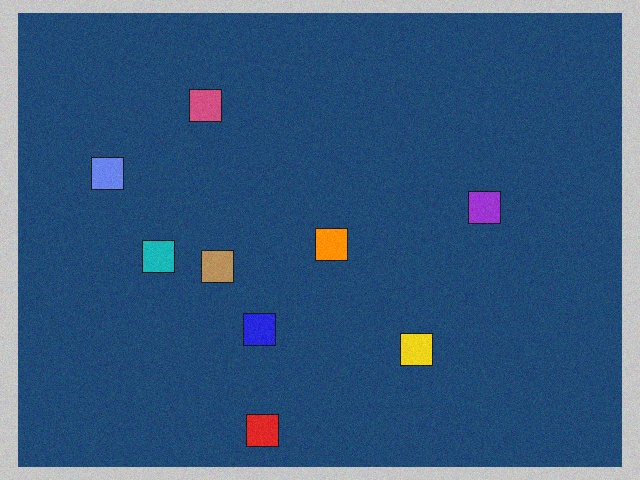block: (91, 157, 134, 192), (190, 89, 227, 128), (246, 405, 280, 446), (396, 328, 432, 365), (460, 191, 500, 224), (143, 240, 183, 272), (244, 309, 278, 345), (202, 250, 238, 282), (315, 228, 347, 260)
